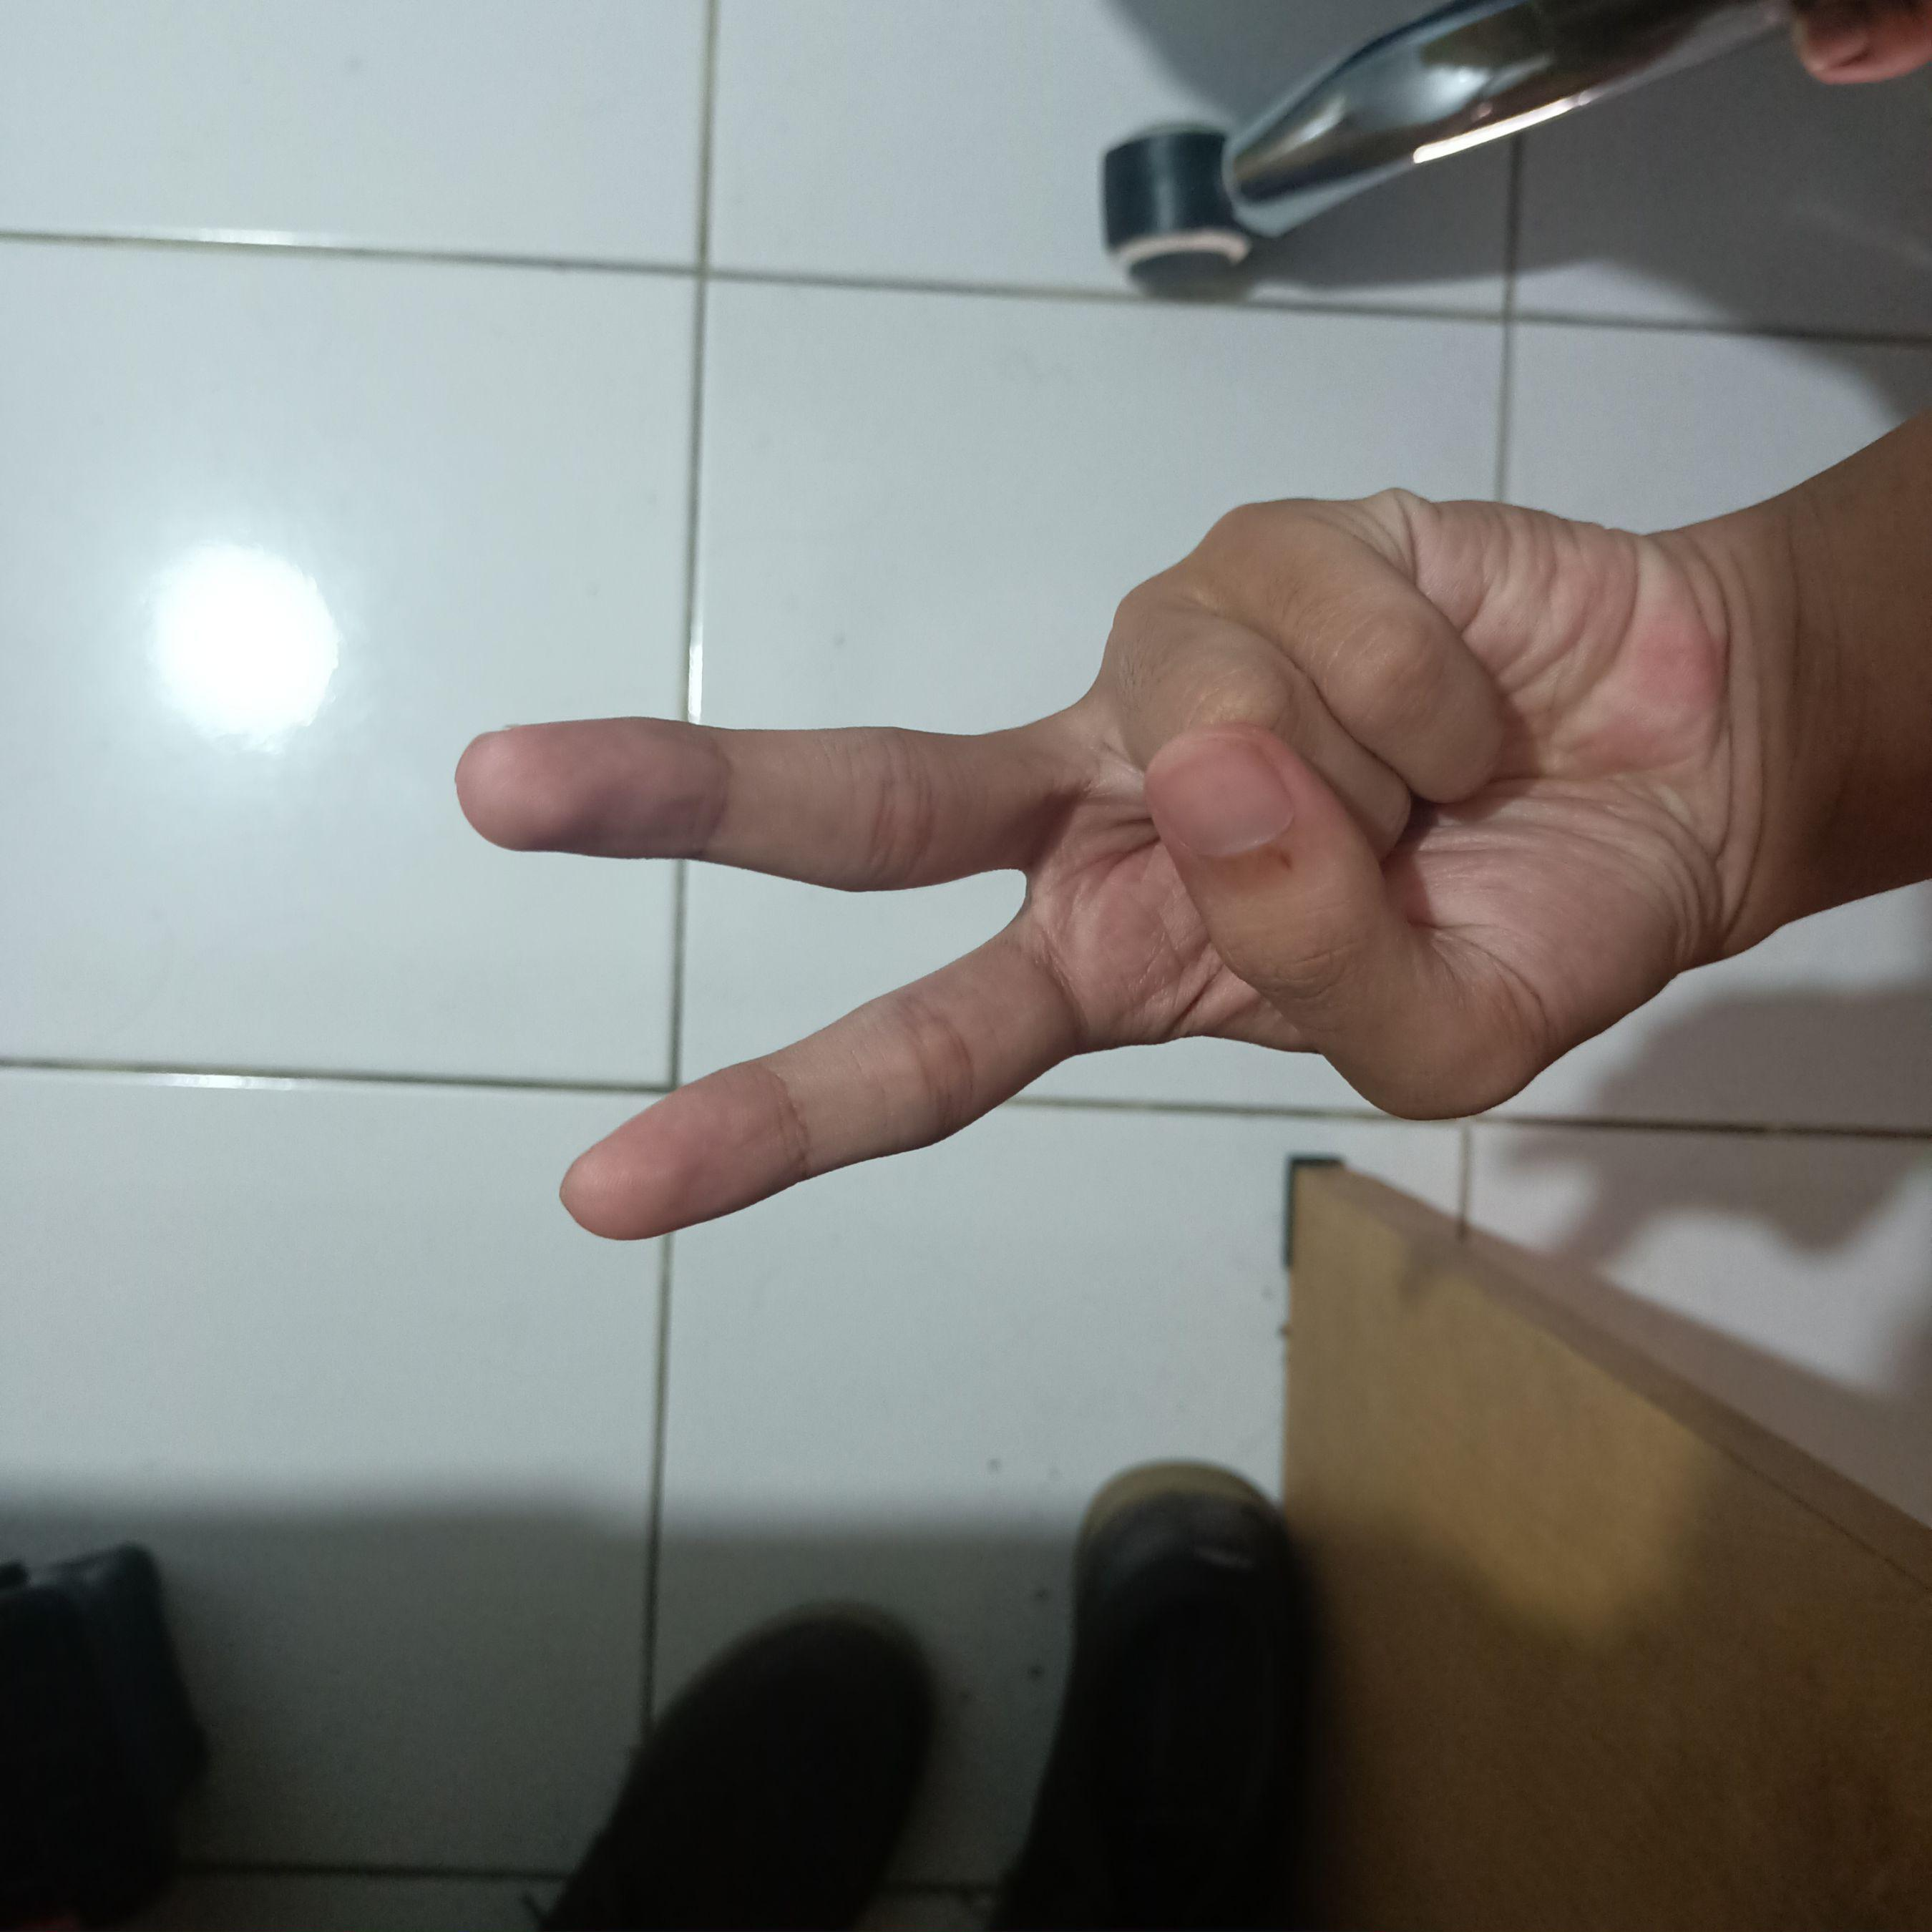scissors: (442, 446, 1787, 1254)
